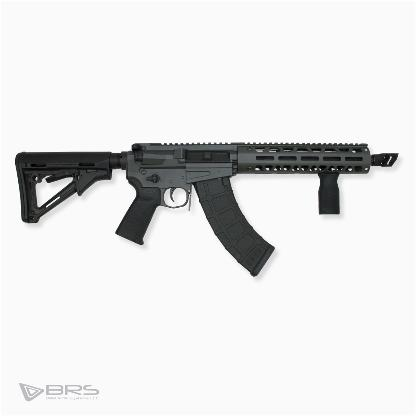gun: (9, 138, 397, 276)
